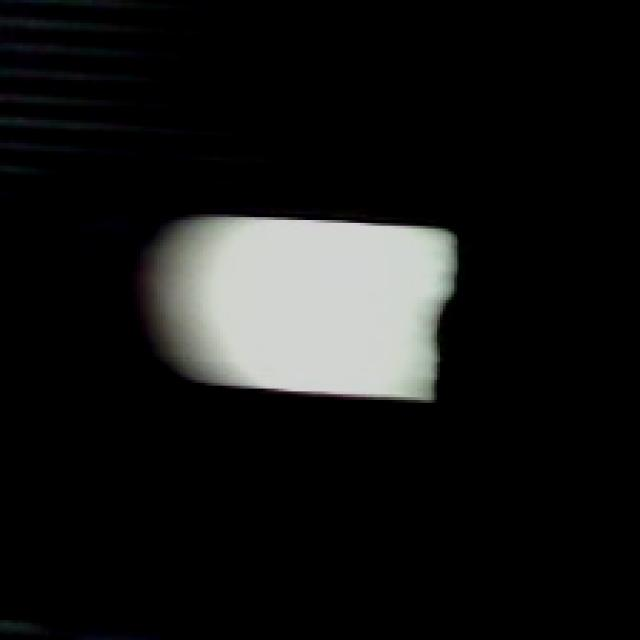defected: (114, 206, 463, 403)
